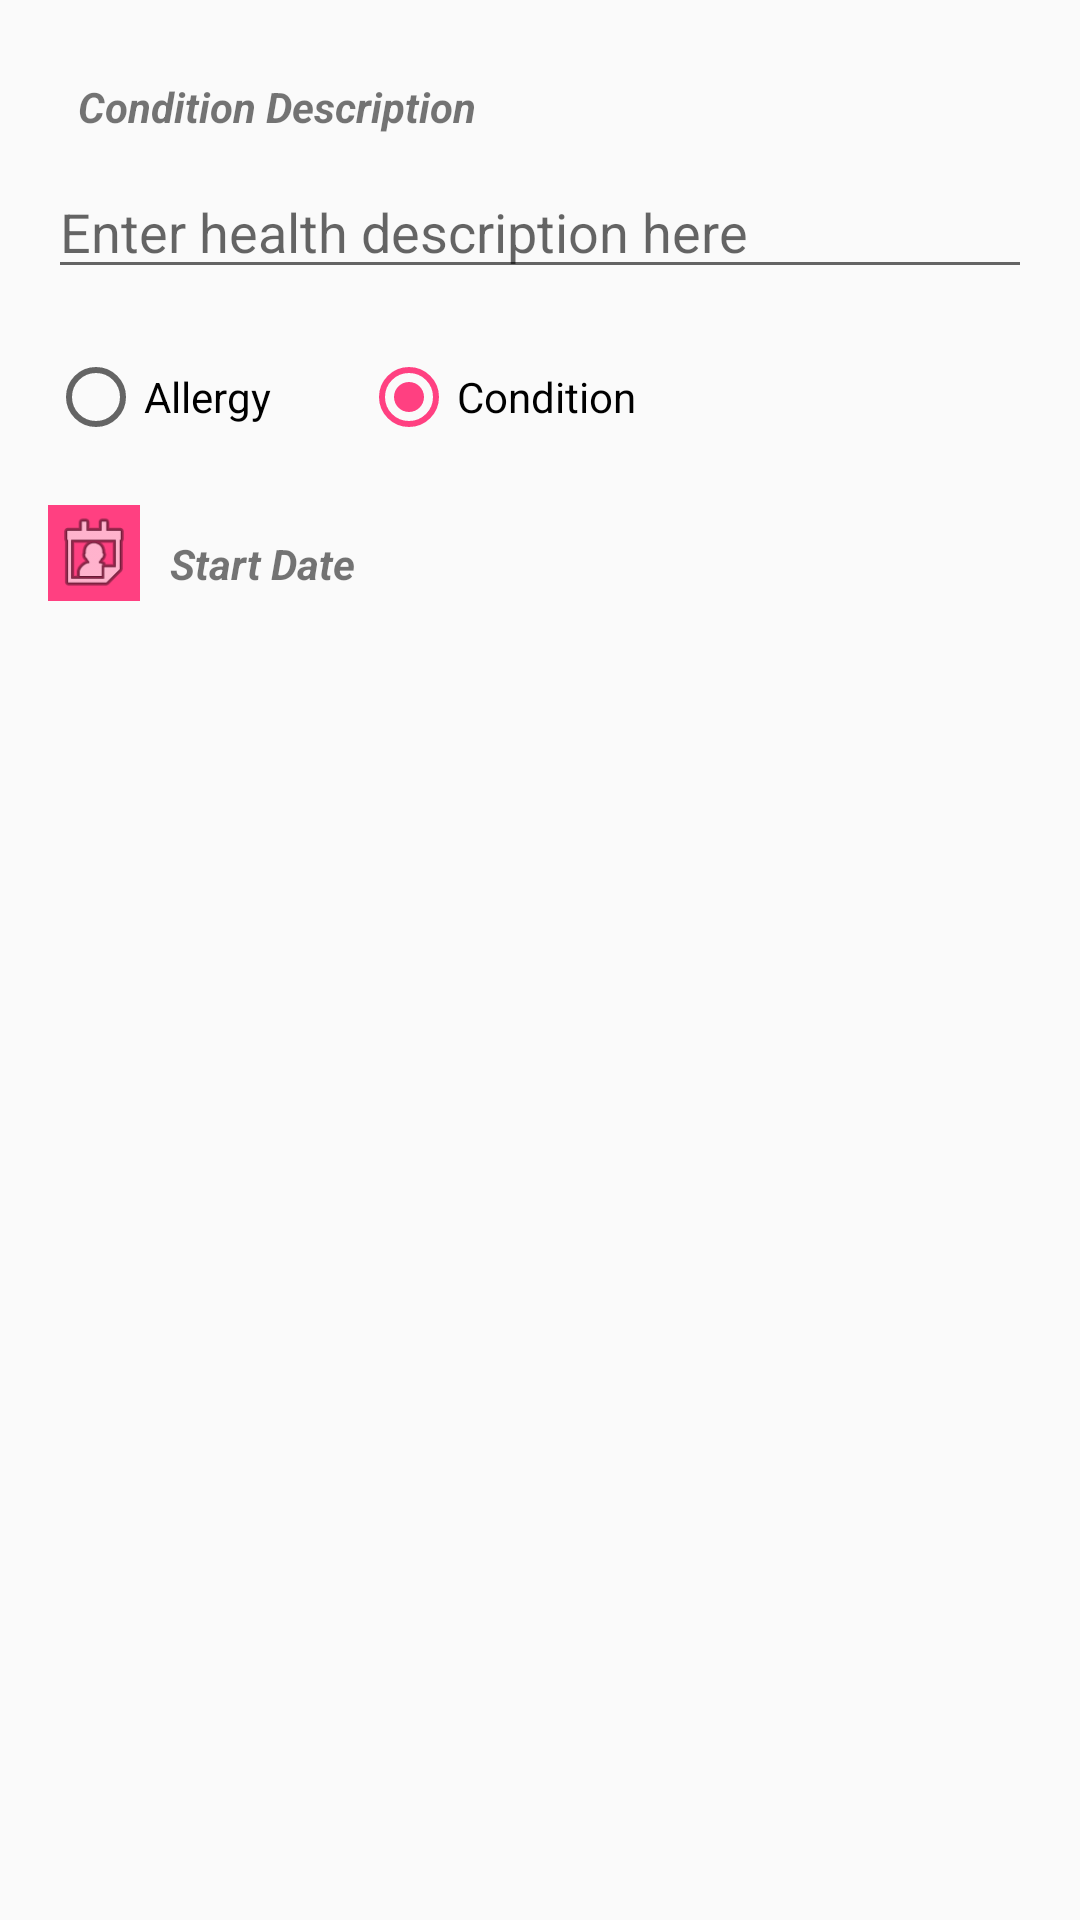

Named icons in this screenshot (1080*1920) and their bounding boxes, (x1, y1, x2, y2):
calendar: (48, 505, 140, 601)
